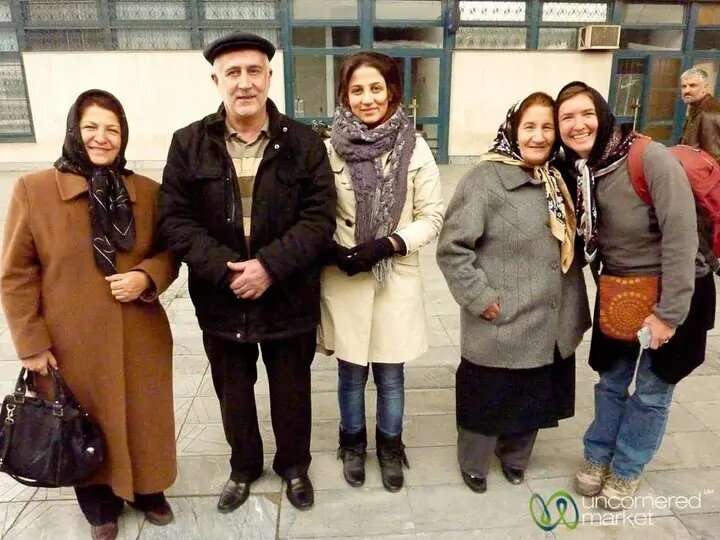without_mask: (221, 58, 268, 113), (78, 112, 122, 166), (349, 74, 388, 122), (517, 111, 553, 163), (559, 105, 597, 151), (680, 78, 702, 105)
